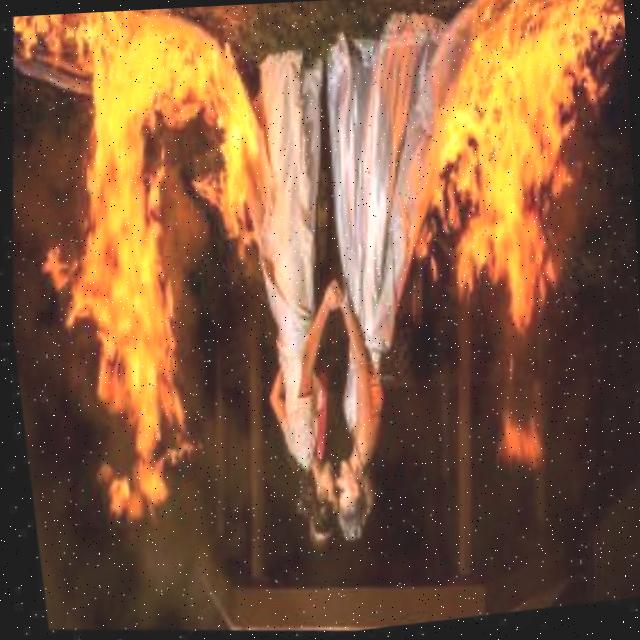fire: (0, 84, 234, 552), (388, 135, 596, 357), (432, 0, 632, 177), (1, 4, 240, 132), (169, 100, 279, 287), (469, 331, 558, 505)
